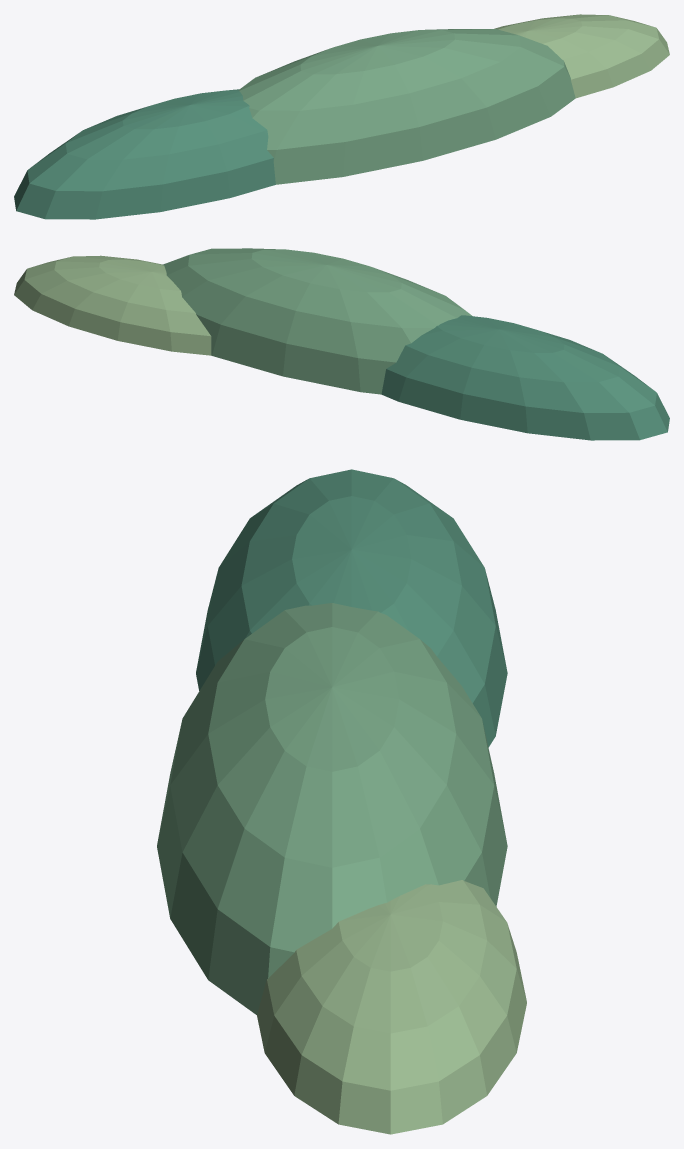
Rendered from tpe5_distant_hill.glb.
3 views of the same model, one above another, from view 1: azimuth 30°, elevation 25°; view 2: azimuth 150°, elevation 25°; view 3: azimuth 270°, elevation 25° (orthographic). The views are drawn at different scales.
Visible parts, largest first — view 1: tpe5_distant_hill__tpe5-leaf-sage, tpe5_distant_hill__tpe5-street-jade, tpe5_distant_hill__tpe5-leaf-light; view 2: tpe5_distant_hill__tpe5-leaf-sage, tpe5_distant_hill__tpe5-street-jade, tpe5_distant_hill__tpe5-leaf-light; view 3: tpe5_distant_hill__tpe5-leaf-sage, tpe5_distant_hill__tpe5-leaf-light, tpe5_distant_hill__tpe5-street-jade.
Part boxes in pixels (<box>): tpe5_distant_hill__tpe5-leaf-sage: <box>238,29,575,184</box>; tpe5_distant_hill__tpe5-street-jade: <box>14,89,275,219</box>; tpe5_distant_hill__tpe5-leaf-light: <box>494,14,669,98</box>; tpe5_distant_hill__tpe5-leaf-sage: <box>162,248,472,394</box>; tpe5_distant_hill__tpe5-street-jade: <box>381,315,669,440</box>; tpe5_distant_hill__tpe5-leaf-light: <box>14,255,211,355</box>; tpe5_distant_hill__tpe5-leaf-sage: <box>157,603,507,1014</box>; tpe5_distant_hill__tpe5-leaf-light: <box>257,880,526,1134</box>; tpe5_distant_hill__tpe5-street-jade: <box>196,469,507,747</box>.
Bounding box in the file's own units: 76 × 9 × 19.
